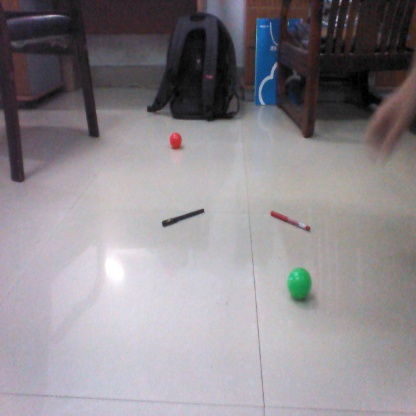ball: (288, 264, 317, 299), (165, 130, 186, 147)
pen: (160, 208, 206, 229), (268, 211, 313, 231)
